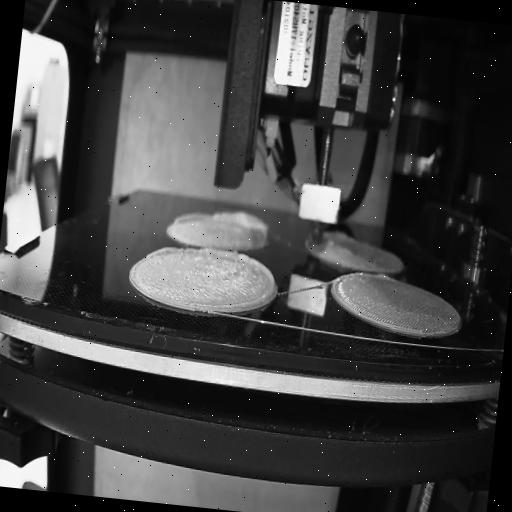over_extrusion: (201, 249, 279, 315), (212, 206, 274, 234), (146, 240, 180, 262), (172, 207, 206, 226), (325, 230, 351, 243), (374, 268, 394, 284)
